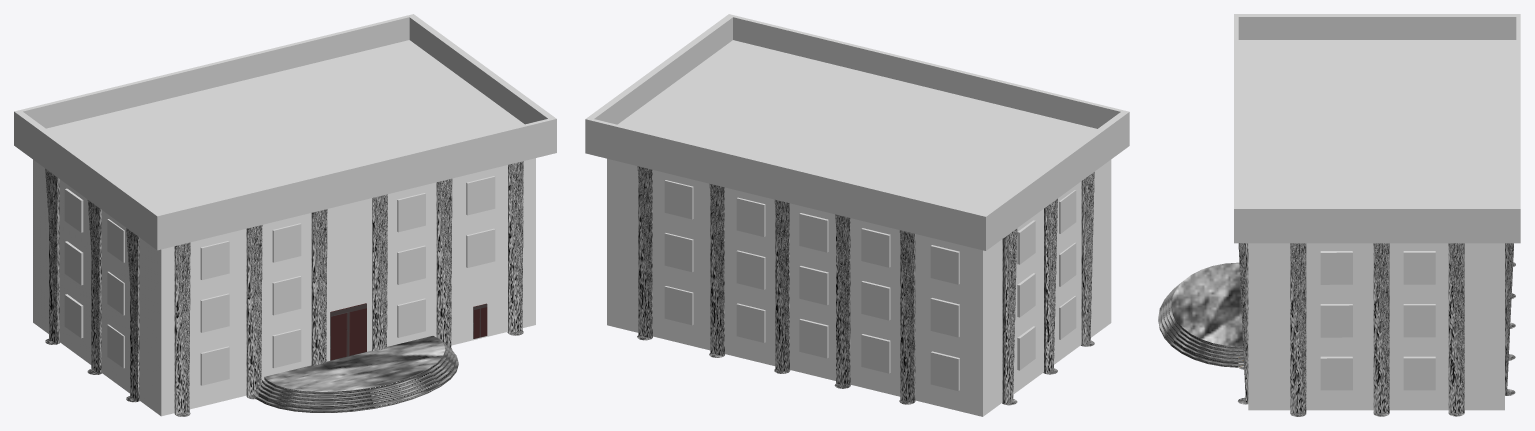
The model's file is UnfinishedMansion1.fbx.
3 renders of one model, left to right at view 1: azimuth 30°, elevation 25°; view 2: azimuth 150°, elevation 25°; view 3: azimuth 270°, elevation 25°, orthographic.
Parts seen in each view (by area): view 1: Cube, Building, FrontPorchStairs, TallColumn.001, TallColumn.002, TallColumn.006, TallColumn.005, TallColumn.003, TallColumn.004, TallColumn.009, TallColumn.008, ManshionFrontDoor (+19 smaller); view 2: Cube, Building, TallColumn.013, TallColumn.014, TallColumn.015, TallColumn.017, TallColumn.016, TallColumn.009, TallColumn.008, TallColumn.007, Window.024, Window.025 (+19 smaller); view 3: Cube, Building, FrontPorchStairs, TallColumn.010, TallColumn.011, TallColumn.012, TallColumn.006, Window.018, Window.023, Window.019, Window.020, Window.021 (+2 smaller).
Part boxes in pixels (left/top/right/bottom): Cube: left=14, top=14, right=556, bottom=250; Building: left=33, top=158, right=535, bottom=416; FrontPorchStairs: left=253, top=336, right=458, bottom=412; TallColumn.001: left=174, top=242, right=190, bottom=416; TallColumn.002: left=246, top=225, right=262, bottom=399; TallColumn.006: left=507, top=161, right=523, bottom=335; TallColumn.005: left=436, top=178, right=452, bottom=349; TallColumn.003: left=311, top=209, right=327, bottom=366; TallColumn.004: left=372, top=194, right=387, bottom=351; TallColumn.009: left=45, top=168, right=60, bottom=344; TallColumn.008: left=87, top=200, right=101, bottom=374; ManshionFrontDoor: left=330, top=303, right=366, bottom=360; Cube: left=585, top=14, right=1129, bottom=250; Building: left=607, top=158, right=1111, bottom=416; TallColumn.013: left=899, top=230, right=915, bottom=404; TallColumn.014: left=834, top=214, right=850, bottom=388; TallColumn.015: left=774, top=199, right=790, bottom=373; TallColumn.017: left=637, top=166, right=652, bottom=340; TallColumn.016: left=709, top=183, right=724, bottom=357; TallColumn.009: left=1002, top=228, right=1017, bottom=405; TallColumn.008: left=1043, top=198, right=1057, bottom=374; TallColumn.007: left=1081, top=172, right=1094, bottom=346; Window.024: left=930, top=298, right=959, bottom=337; Window.025: left=930, top=245, right=959, bottom=284; Cube: left=1234, top=14, right=1520, bottom=243; Building: left=1248, top=243, right=1504, bottom=410; FrontPorchStairs: left=1158, top=262, right=1243, bottom=367; TallColumn.010: left=1290, top=243, right=1306, bottom=416; TallColumn.011: left=1373, top=243, right=1389, bottom=416; TallColumn.012: left=1448, top=243, right=1464, bottom=416; TallColumn.006: left=1238, top=243, right=1248, bottom=404; Window.018: left=1320, top=356, right=1352, bottom=390; Window.023: left=1403, top=356, right=1435, bottom=390; Window.019: left=1320, top=304, right=1352, bottom=337; Window.020: left=1320, top=251, right=1352, bottom=284; Window.021: left=1403, top=251, right=1435, bottom=284.
Size of the model in its own units: 5756 by 2880 by 4520.
